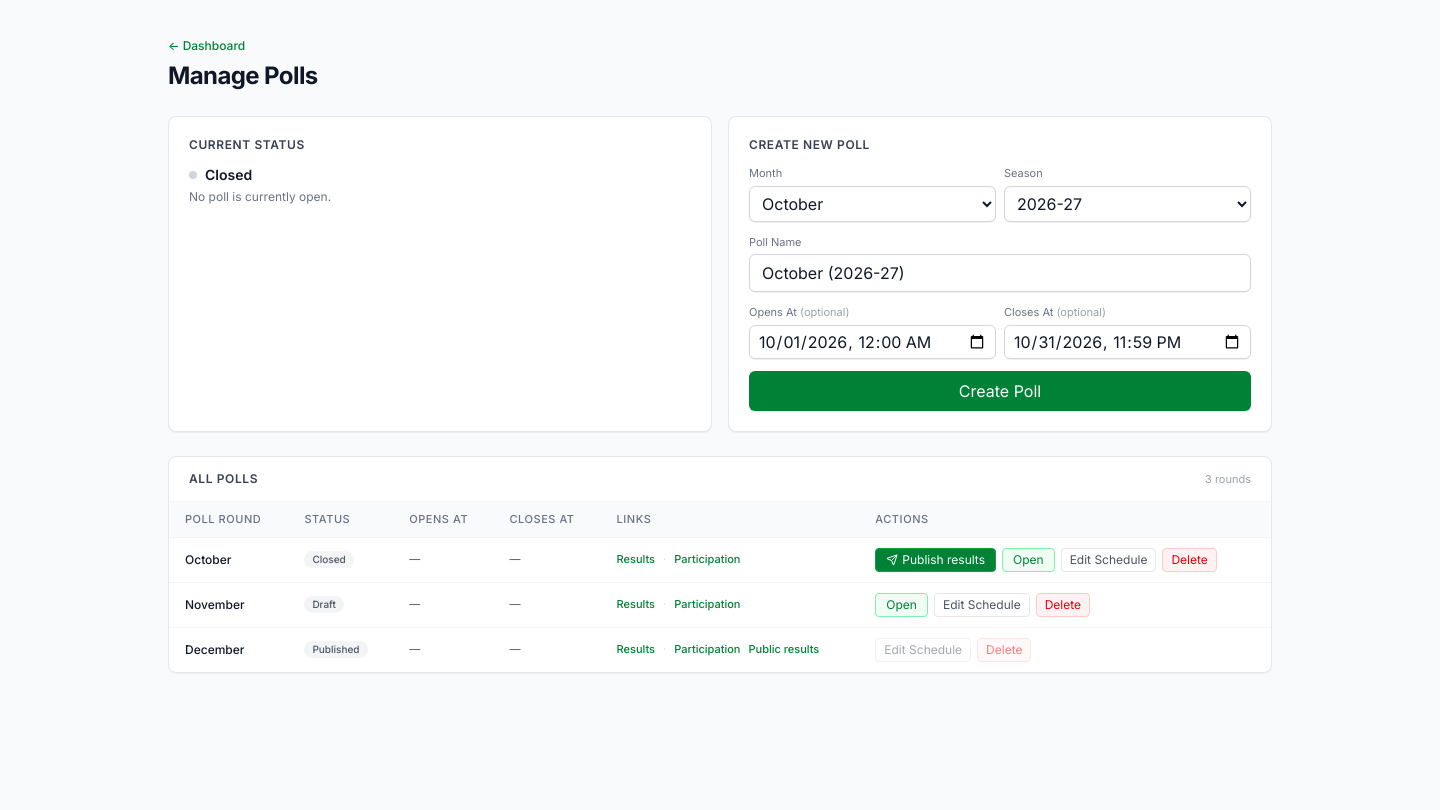
Test: PollManagementPage › publishes a closed poll through the server and refreshes its status
Step 1. Click the button "Publish results" → [936, 560], box [875, 548, 996, 572]
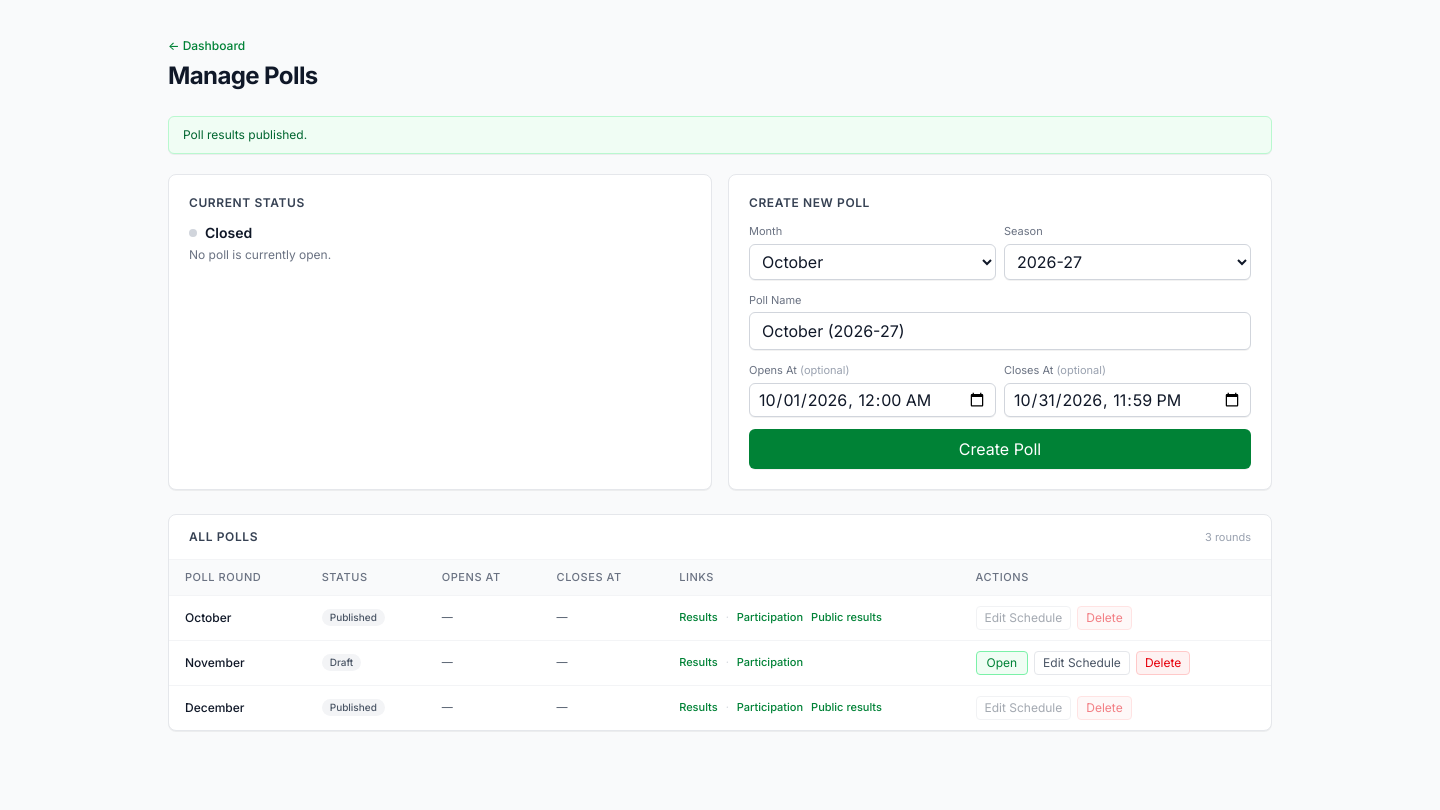
Expected: the text "Poll results published." is shown, [168, 116, 1272, 154]
Expected: the text "Published" next to "October" is shown, [330, 611, 377, 623]
Expected: the button "Publish results" is gone
